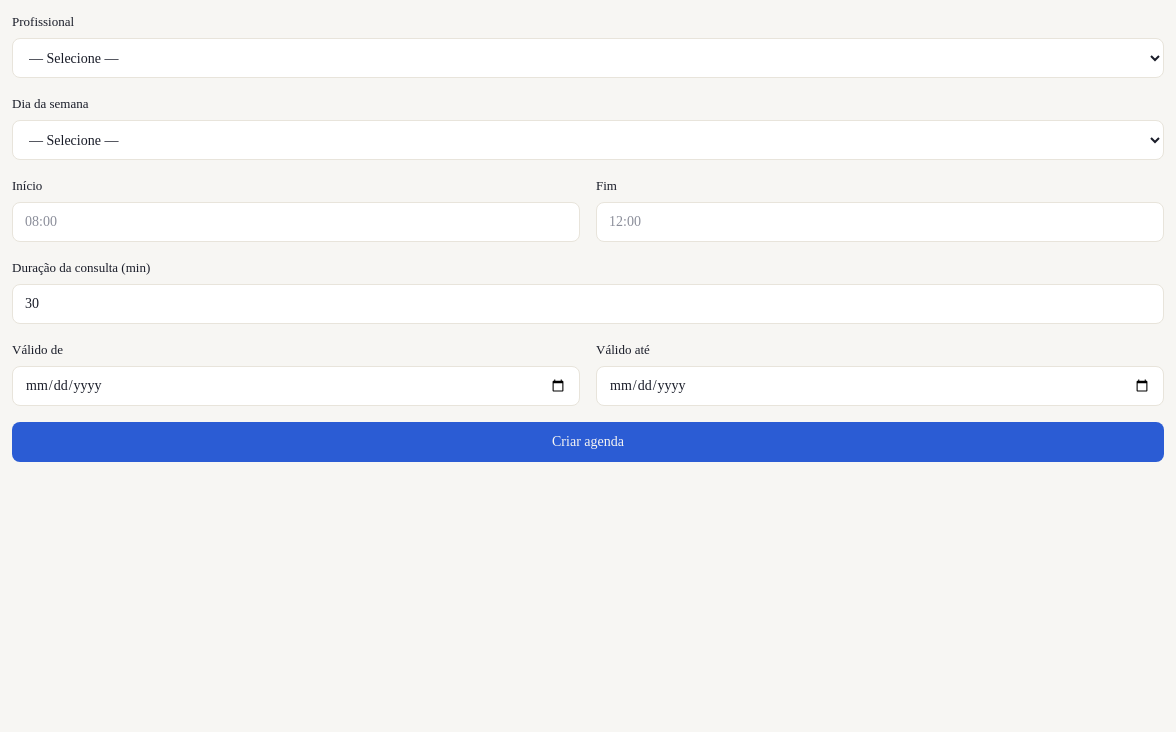
Test case: ScheduleForm — create mode › shows validation error when no doctor is selected in ADMIN mode
What coordinates should you click on to do the following:
click the button with test id "schedule-form-submit"
I would click on:
 (588, 442)
Its box is [12,422,1164,462].
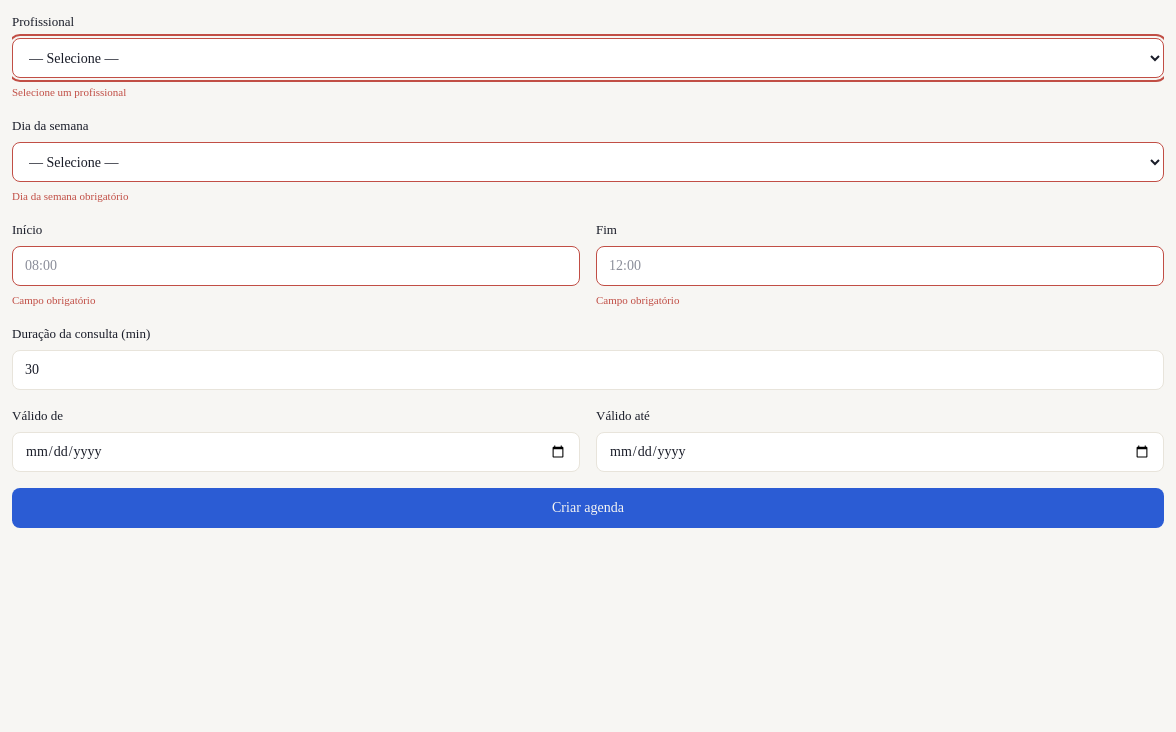
Check: the text "Selecione um profissional" is shown, box [12,86,126,98]
